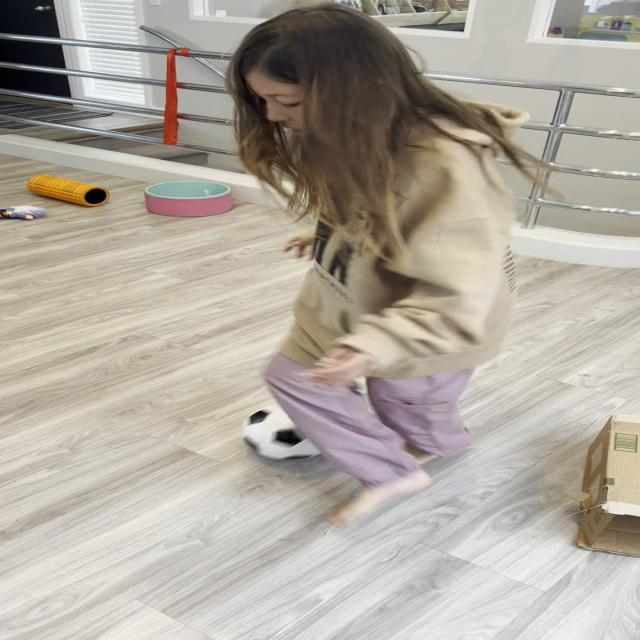Soccer Ball: (240, 402, 340, 459)
